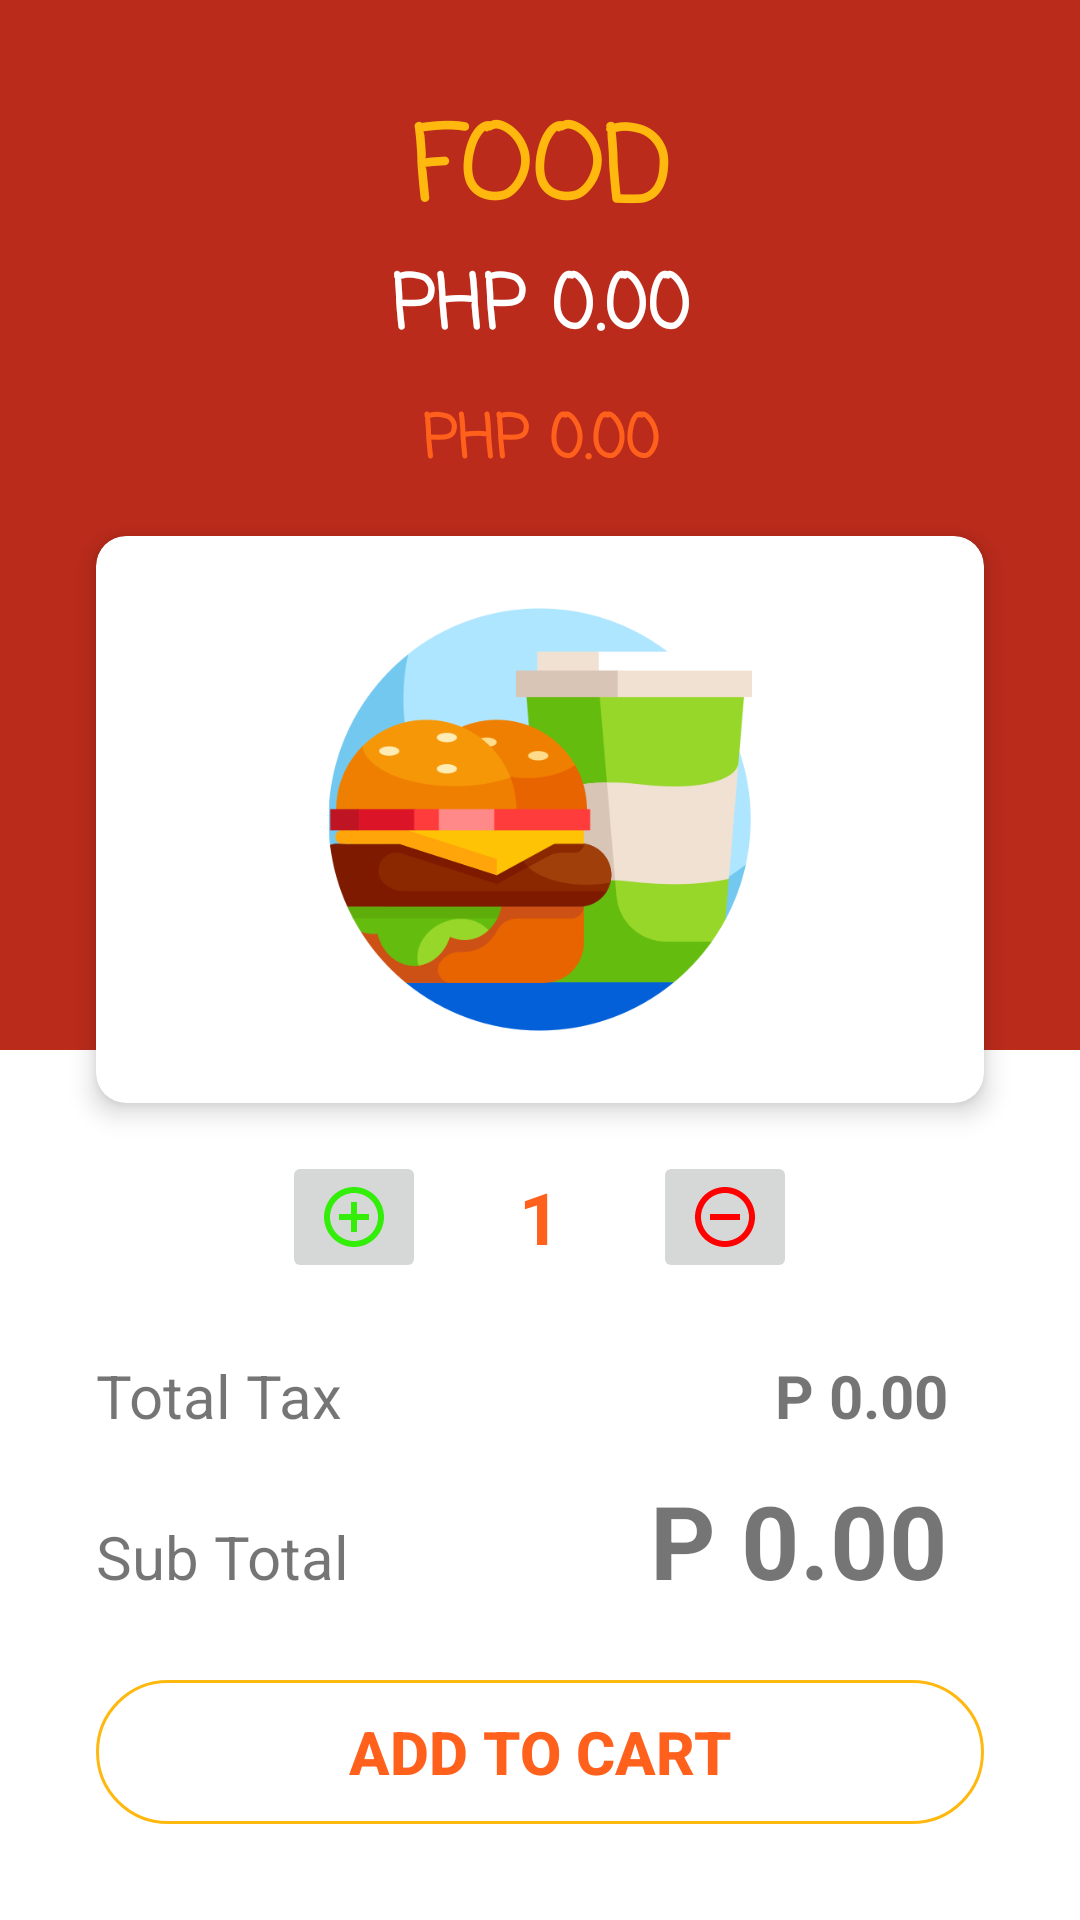

Named icons in this screenshot (1080w x 1920h) and their bounding boxes, (x1, y1, x2, y2):
add circle: (294, 1169, 414, 1265)
remove: (665, 1169, 785, 1265)
